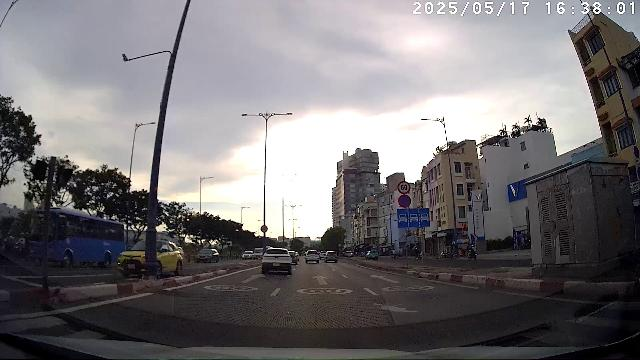127-toc-do-toi-da-60: (397, 181, 411, 194)
